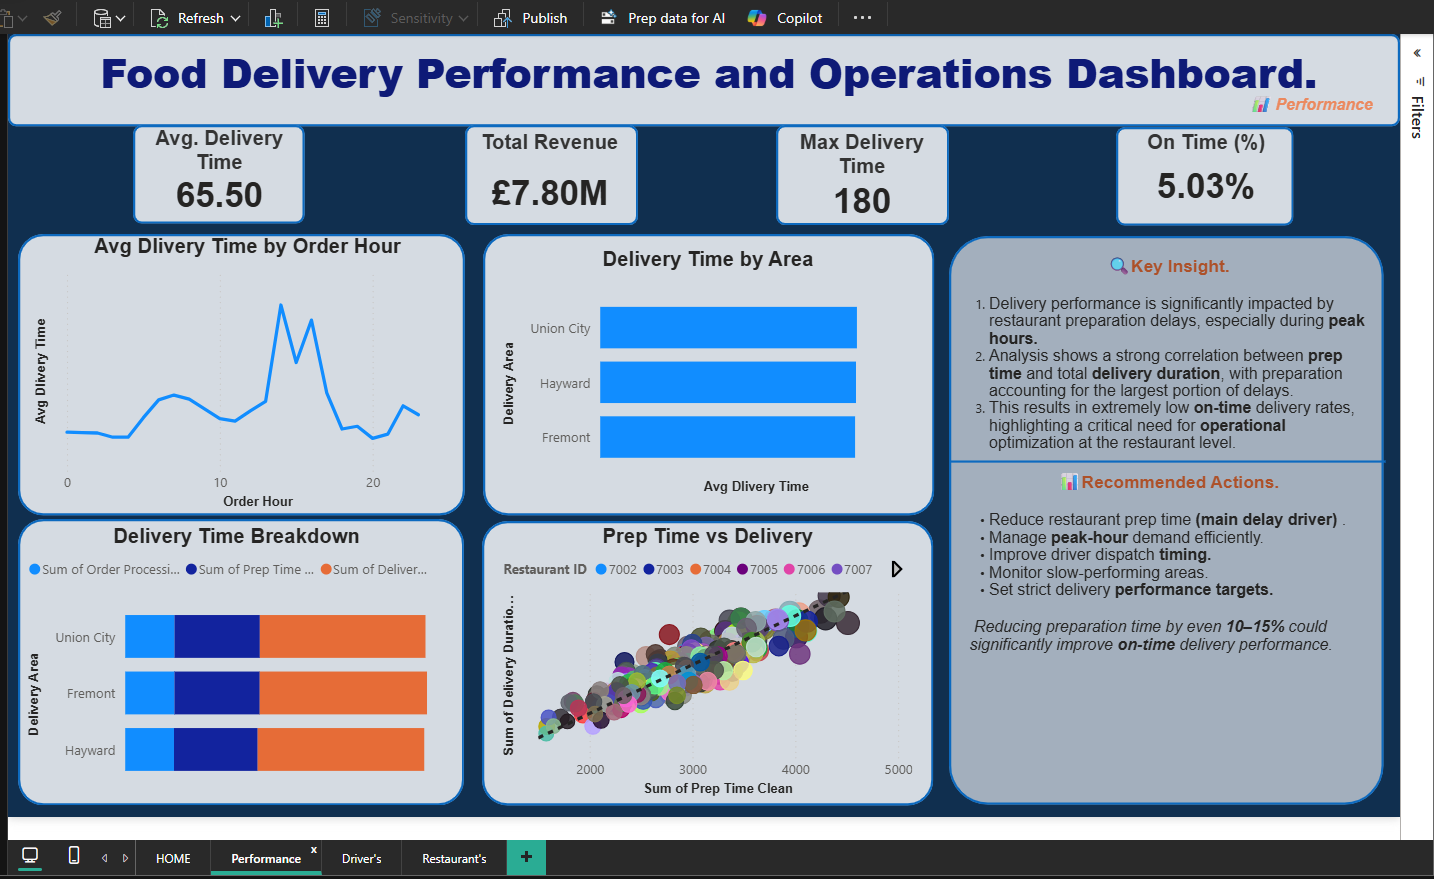

Layout of this report page (visuals, bound fields, positions):
{"tool":"powerbi","page":{"name":"Performance","canvas":[1280,720],"ordinal":1},"visuals":[{"type":"shape","box":[0,0,1280,84.9],"z":0},{"type":"shape","box":[115.4,83.8,157.9,90.6],"z":1000},{"type":"shape","box":[9.7,445.9,410.2,263.5],"z":2000},{"type":"shape","box":[9.2,183.9,410.9,258.9],"z":3000},{"type":"shape","box":[436.6,183.9,415,258.9],"z":4000},{"type":"shape","box":[436.2,447.8,415,261.6],"z":5000},{"type":"shape","box":[420.3,83.8,159.3,92],"z":6000},{"type":"shape","box":[1019.1,85.2,163.4,90.6],"z":7000},{"type":"shape","box":[865,185.9,399.6,522.9],"z":8000},{"type":"card","title":"Avg. Delivery Time","fields":{"Values":["Measure.Avg Dlivery Time"]},"box":[119.5,85.2,149.7,81],"z":9000},{"type":"card","title":"On Time (%)","fields":{"Values":["Measure.On-Time %"]},"box":[1036.9,89.3,129.1,78.3],"z":10000},{"type":"clusteredBarChart","title":"Delivery Time by Area","fields":{"Category":["Food Delivery.Delivery Area"],"Y":["Measure.Avg Dlivery Time"]},"box":[451,197.2,386.3,231.1],"z":11000},{"type":"card","title":"Total Revenue ","fields":{"Values":["Sum(Food Delivery.Total Revenue)"]},"box":[420.1,89.6,155.9,90.8],"z":12000},{"type":"shape","box":[705.9,83.8,159.3,92],"z":13000},{"type":"card","title":"Max Delivery Time ","fields":{"Values":["Measure.Max Delivery Time"]},"box":[706.3,89.6,158.3,84.9],"z":14000},{"type":"lineChart","fields":{"Y":["Measure.Avg Dlivery Time"],"Category":["Food Delivery.Order Hour"]},"box":[19.8,185,400.3,257.2],"z":15000},{"type":"barChart","title":"Delivery  Time Breakdown","fields":{"Category":["Food Delivery.Delivery Area"],"Y":["Sum(Food Delivery.Processing Clean)","Sum(Food Delivery.Prep Time Clean)","Sum(Food Delivery.Delivery Travel Clean)"]},"box":[13.7,451.8,392.8,254.1],"z":16000},{"type":"scatterChart","title":"Prep Time vs Delivery ","fields":{"X":["Sum(Food Delivery.Prep Time Clean)"],"Y":["Sum(Food Delivery.Delivery Duration Clean)"],"Size":["Sum(Food Delivery.Total Revenue)"],"Series":["Food Delivery.Restaurant ID"]},"box":[450.5,451.8,385.9,254.1],"z":17000},{"type":"textbox","box":[68.7,3.6,1150.9,77],"z":18000},{"type":"textbox","box":[1116.6,48.5,163.4,35.5],"z":19000},{"type":"textbox","box":[879.4,197.2,376,382.2],"z":20000},{"type":"shape","box":[867,375,399.6,36],"z":21000}]}

Visuals, with their boxes on the page's 1280x720 design canvas (x1, y1, x2, y2). These are canvas units, not pixel positions in the 1434x879 screenshot, which may show the page scaled, cropped or inside an application window:
shape: box=[0, 0, 1280, 85]
shape: box=[115, 84, 273, 174]
shape: box=[10, 446, 420, 709]
shape: box=[9, 184, 420, 443]
shape: box=[437, 184, 852, 443]
shape: box=[436, 448, 851, 709]
shape: box=[420, 84, 580, 176]
shape: box=[1019, 85, 1182, 176]
shape: box=[865, 186, 1265, 709]
"Avg. Delivery Time" card: box=[120, 85, 269, 166]
"On Time (%)" card: box=[1037, 89, 1166, 168]
"Delivery Time by Area" clusteredBarChart: box=[451, 197, 837, 428]
"Total Revenue " card: box=[420, 90, 576, 180]
shape: box=[706, 84, 865, 176]
"Max Delivery Time " card: box=[706, 90, 865, 174]
lineChart - Measure.Avg Dlivery Time x Food Delivery.Order Hour: box=[20, 185, 420, 442]
"Delivery  Time Breakdown" barChart: box=[14, 452, 406, 706]
"Prep Time vs Delivery " scatterChart: box=[450, 452, 836, 706]
textbox: box=[69, 4, 1220, 81]
textbox: box=[1117, 48, 1280, 84]
textbox: box=[879, 197, 1255, 579]
shape: box=[867, 375, 1267, 411]
